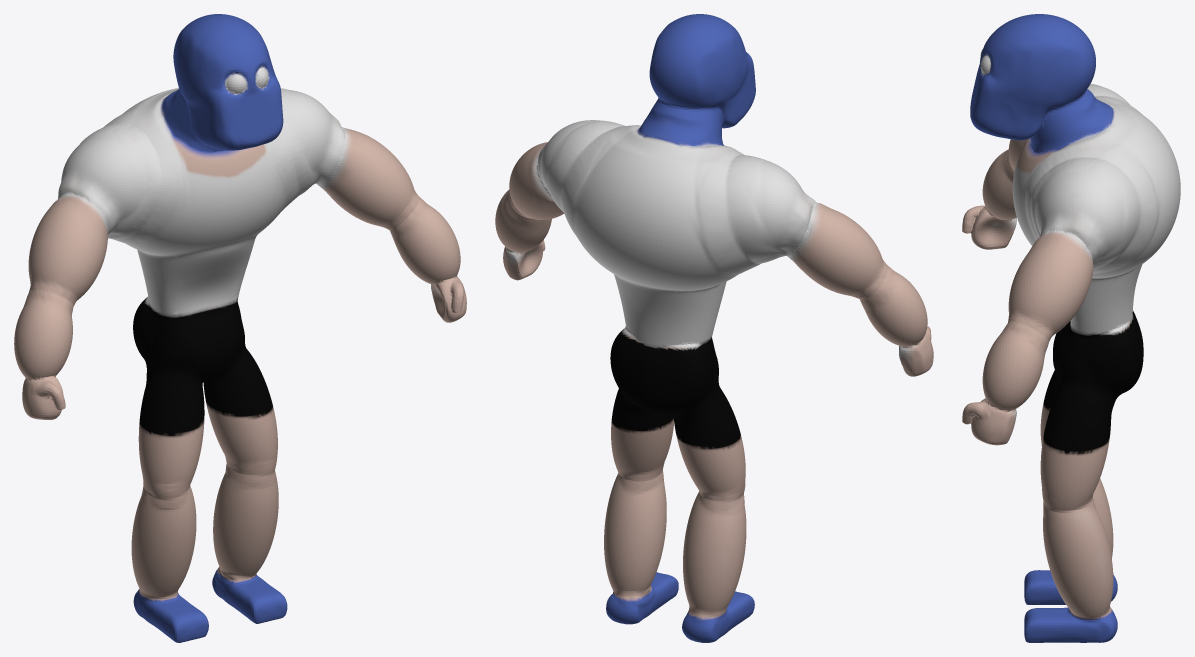
File: bad.glb
3 views of the same model, side by side, from view 1: azimuth 30°, elevation 25°; view 2: azimuth 150°, elevation 25°; view 3: azimuth 270°, elevation 25° (orthographic). The views are drawn at different scales.
Parts seen in each view (by area): view 1: Sphere 1; view 2: Sphere 1; view 3: Sphere 1.
Part boxes in pixels (x1,y1,x2,y2): Sphere 1: (14, 14, 466, 642); Sphere 1: (495, 14, 933, 642); Sphere 1: (962, 14, 1180, 642).
Bounding box in the file's own units: 2.96 × 3.92 × 1.3.
